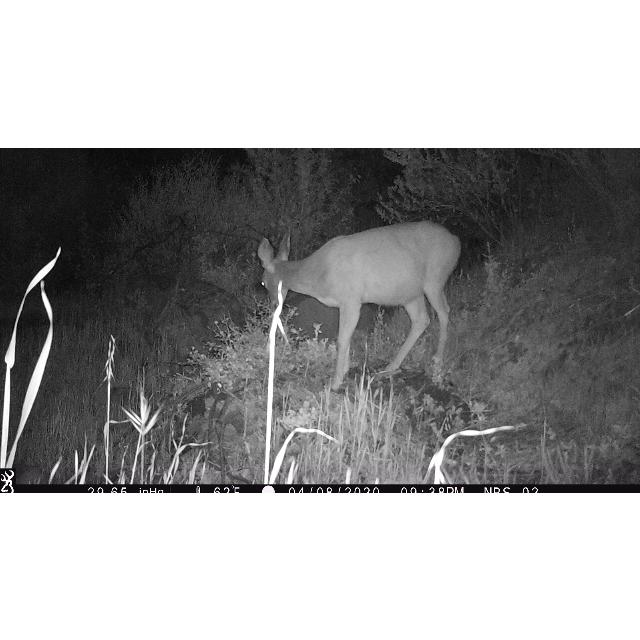animals: (256, 220, 462, 390)
